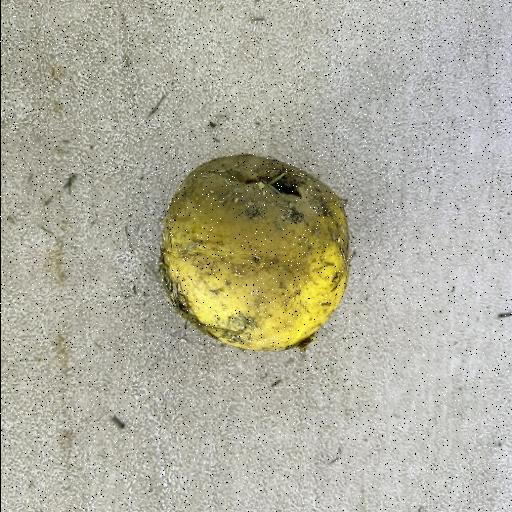Waste: (158, 152, 350, 352)
